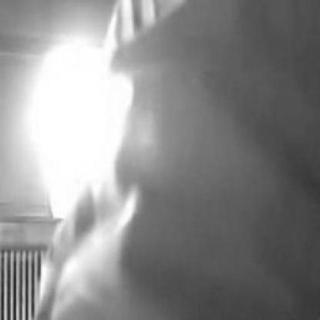other: (35, 33, 133, 236)
